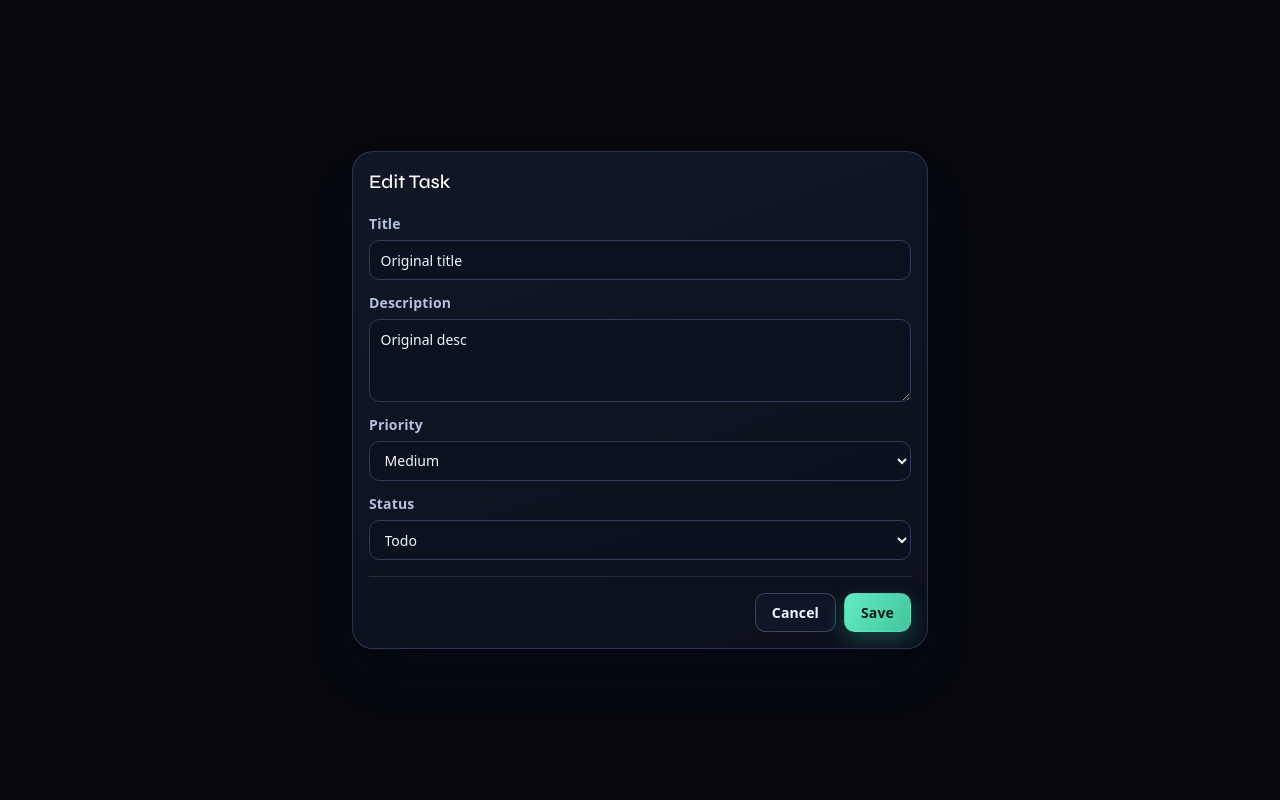
Scenario: TaskDetailDialog › uses fallback error for non-Error failures
The width and height of the screenshot is (1280, 800).
Replace the text in the field showing "Original title" with "Changed" at {"x": 640, "y": 260}, box [369,240,911,280]
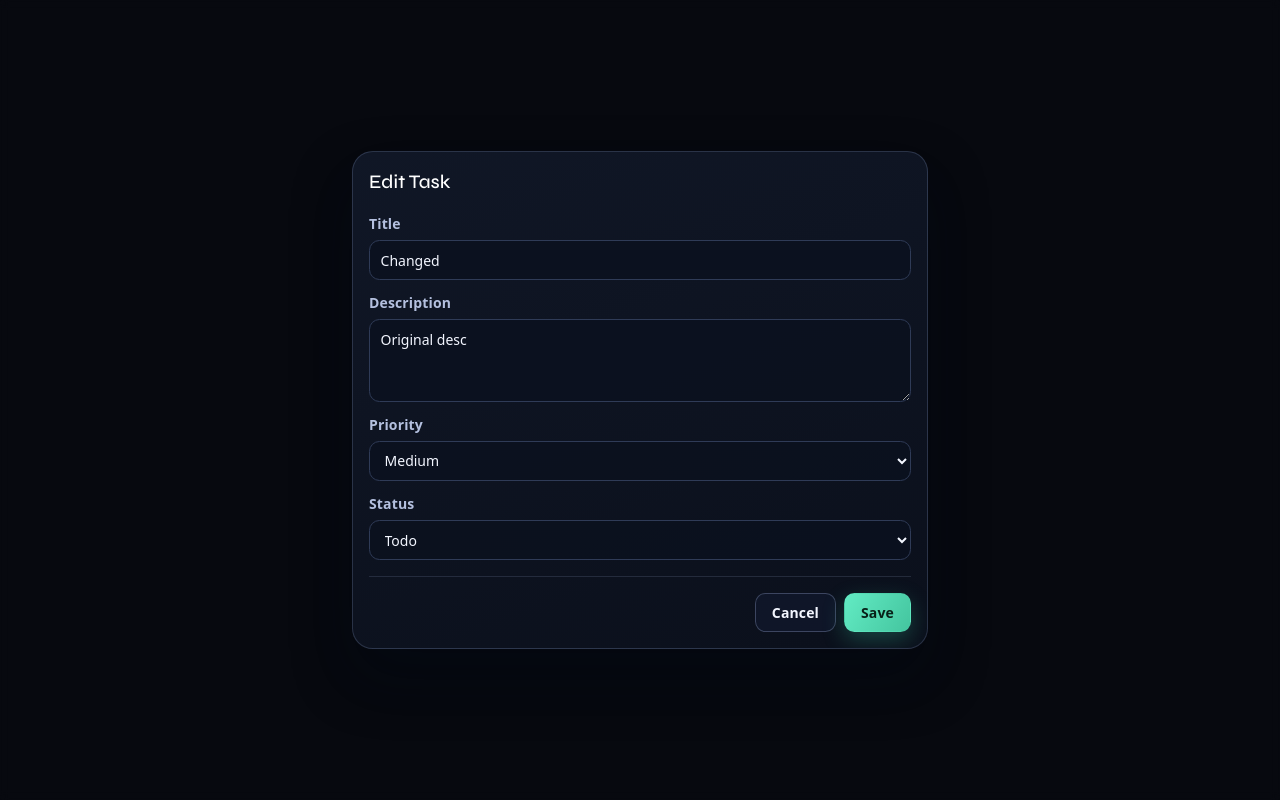
Click the button "Save" at {"x": 878, "y": 612}, box [844,593,911,632]
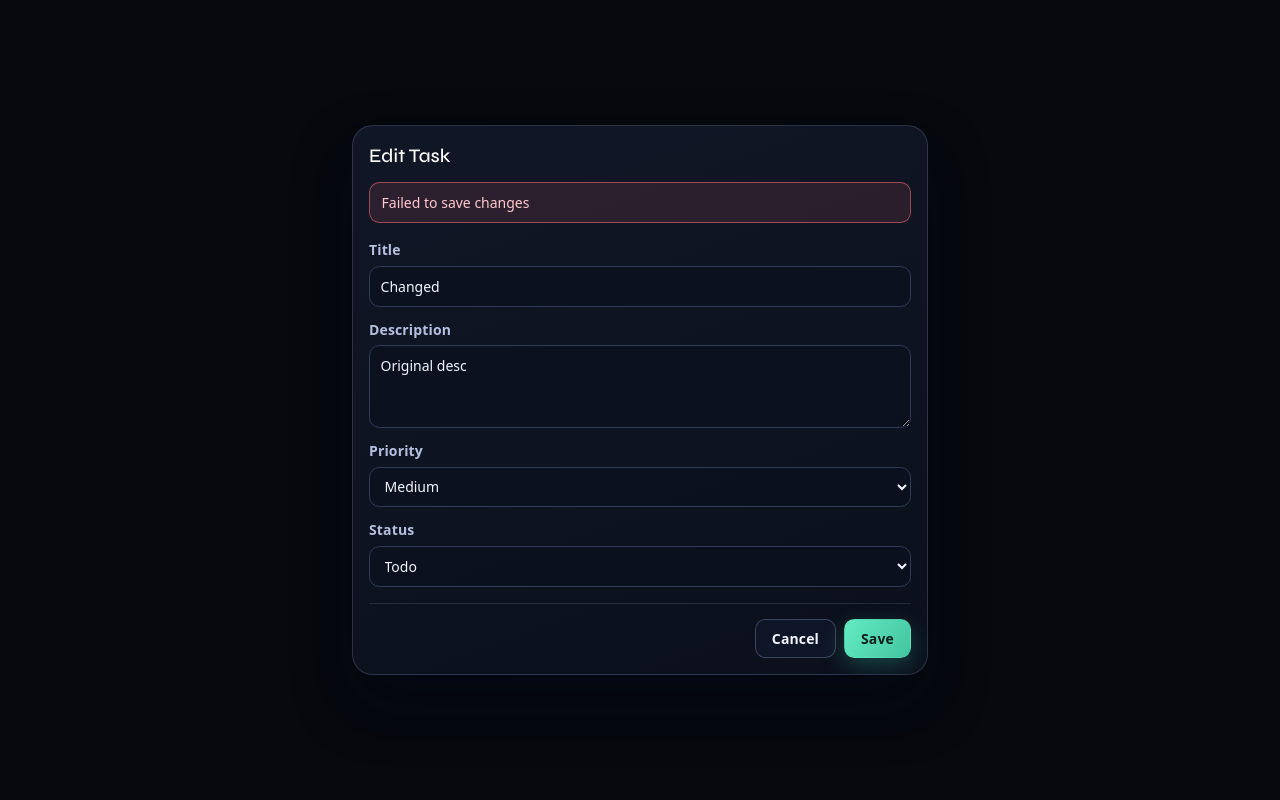
Expected: the text "Failed to save changes" is shown, [369,182,911,223]
